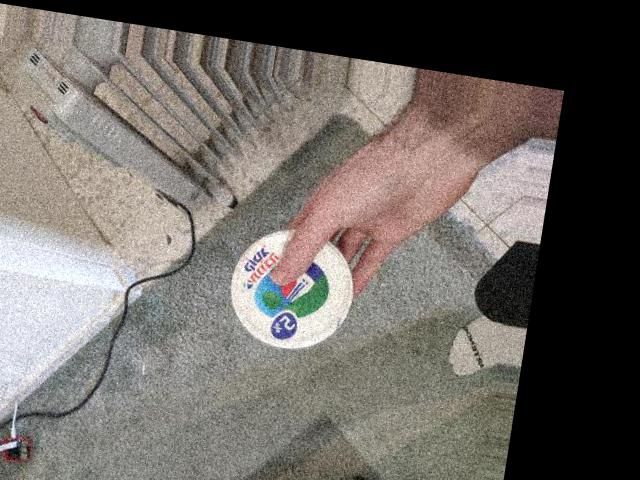cotage: (229, 222, 358, 351)
